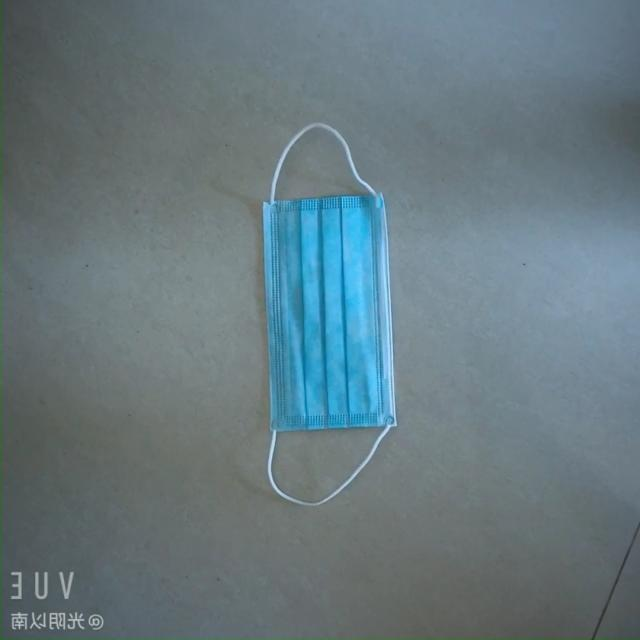face mask: (250, 171, 414, 463)
